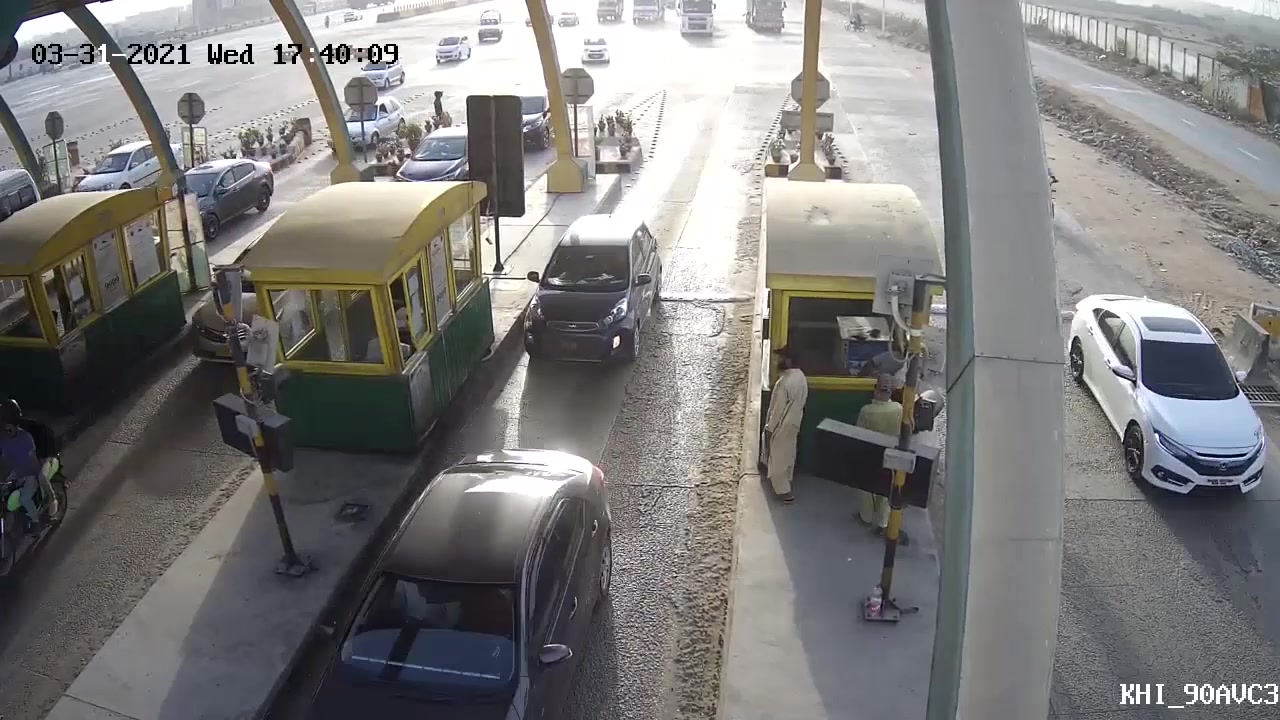F1: (514, 211, 665, 365)
